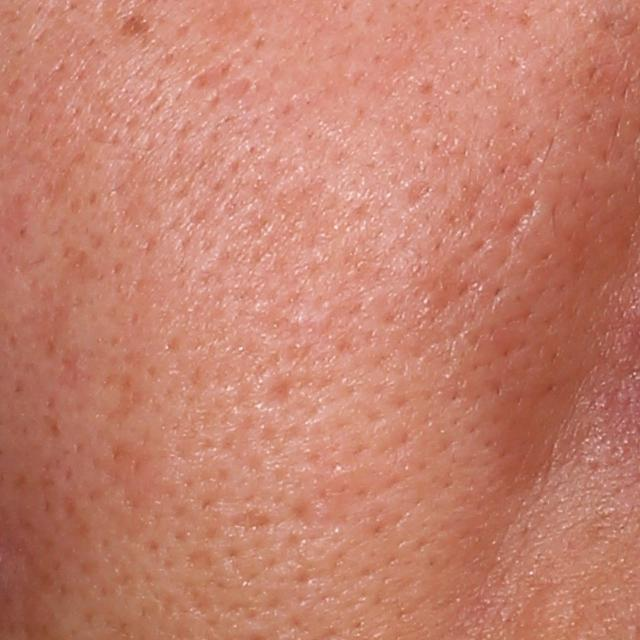atrophic_scar: (103, 368, 146, 431), (500, 193, 542, 235), (258, 372, 307, 408), (229, 511, 279, 540), (402, 176, 434, 209)
